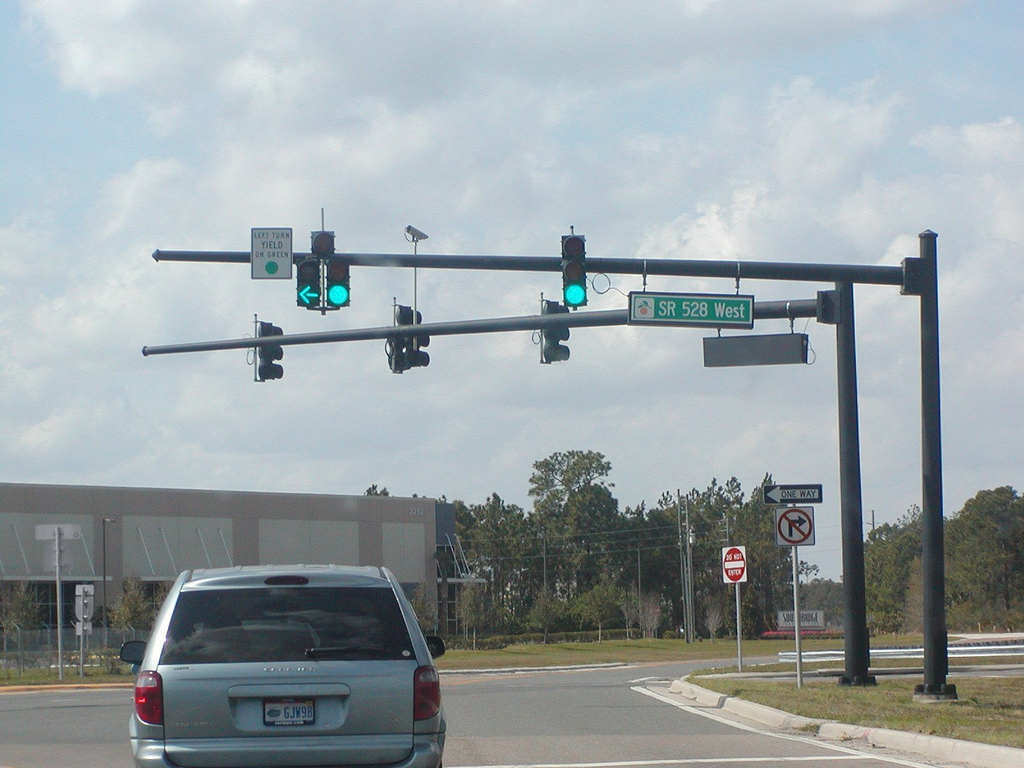traffic_light: (295, 229, 353, 316), (559, 233, 590, 309)
